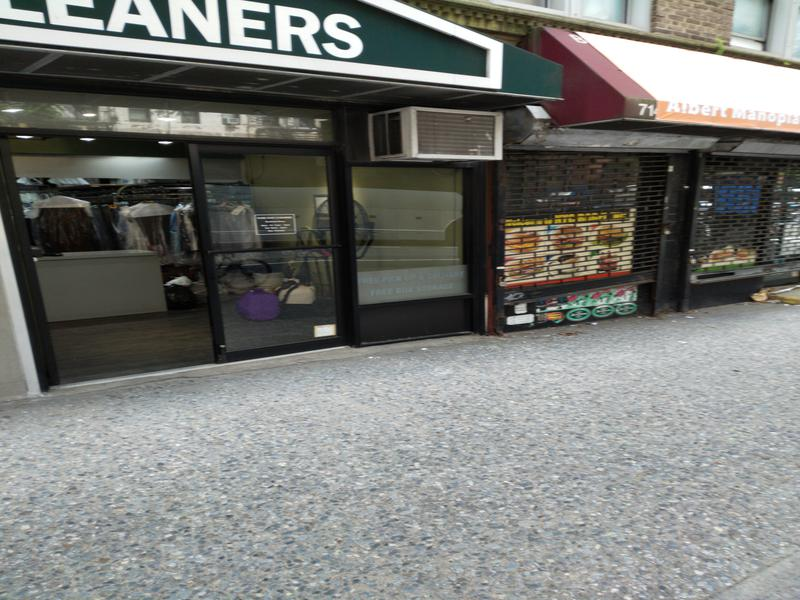door: (184, 134, 368, 367)
